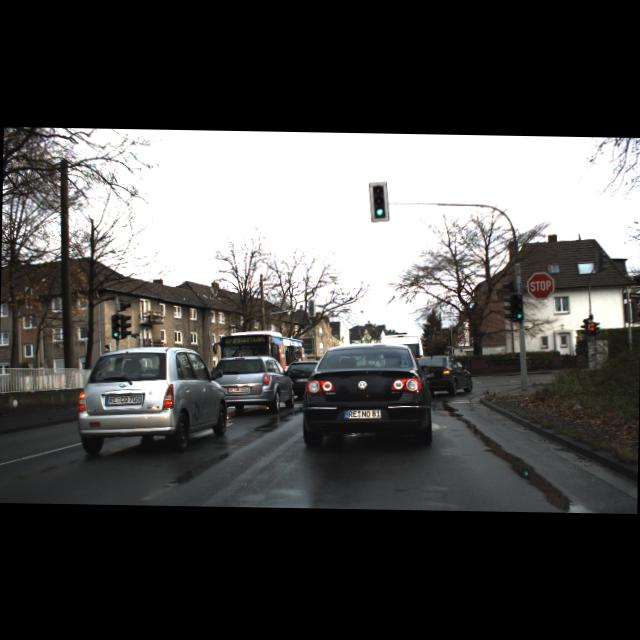other: (527, 272, 554, 300)
